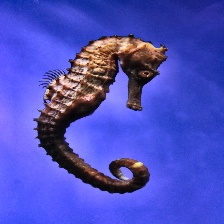seahorse: (32, 35, 168, 202)
